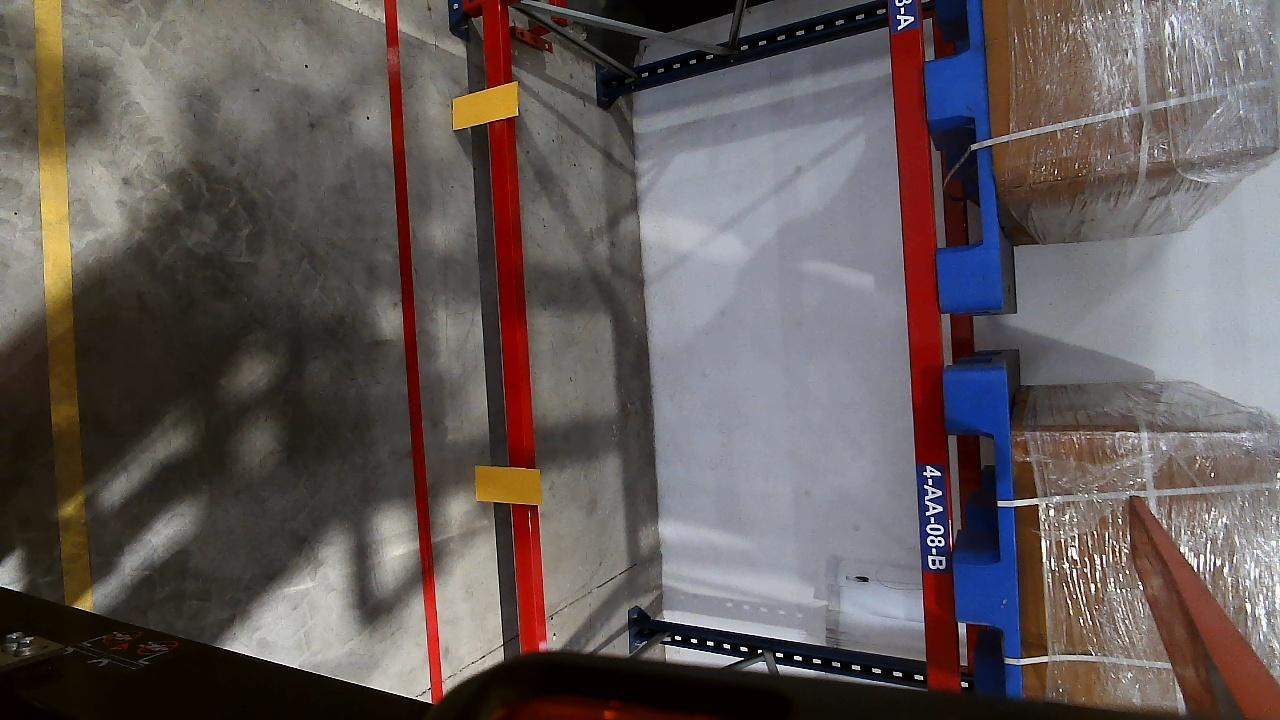h_rack: (480, 1, 547, 651), (894, 1, 955, 684)
orange_strip: (451, 82, 521, 128), (473, 466, 540, 505)
red_line: (387, 0, 442, 702)
small_pallet: (915, 0, 1008, 305), (944, 377, 1027, 691)
yellow_line: (29, 0, 87, 609)
